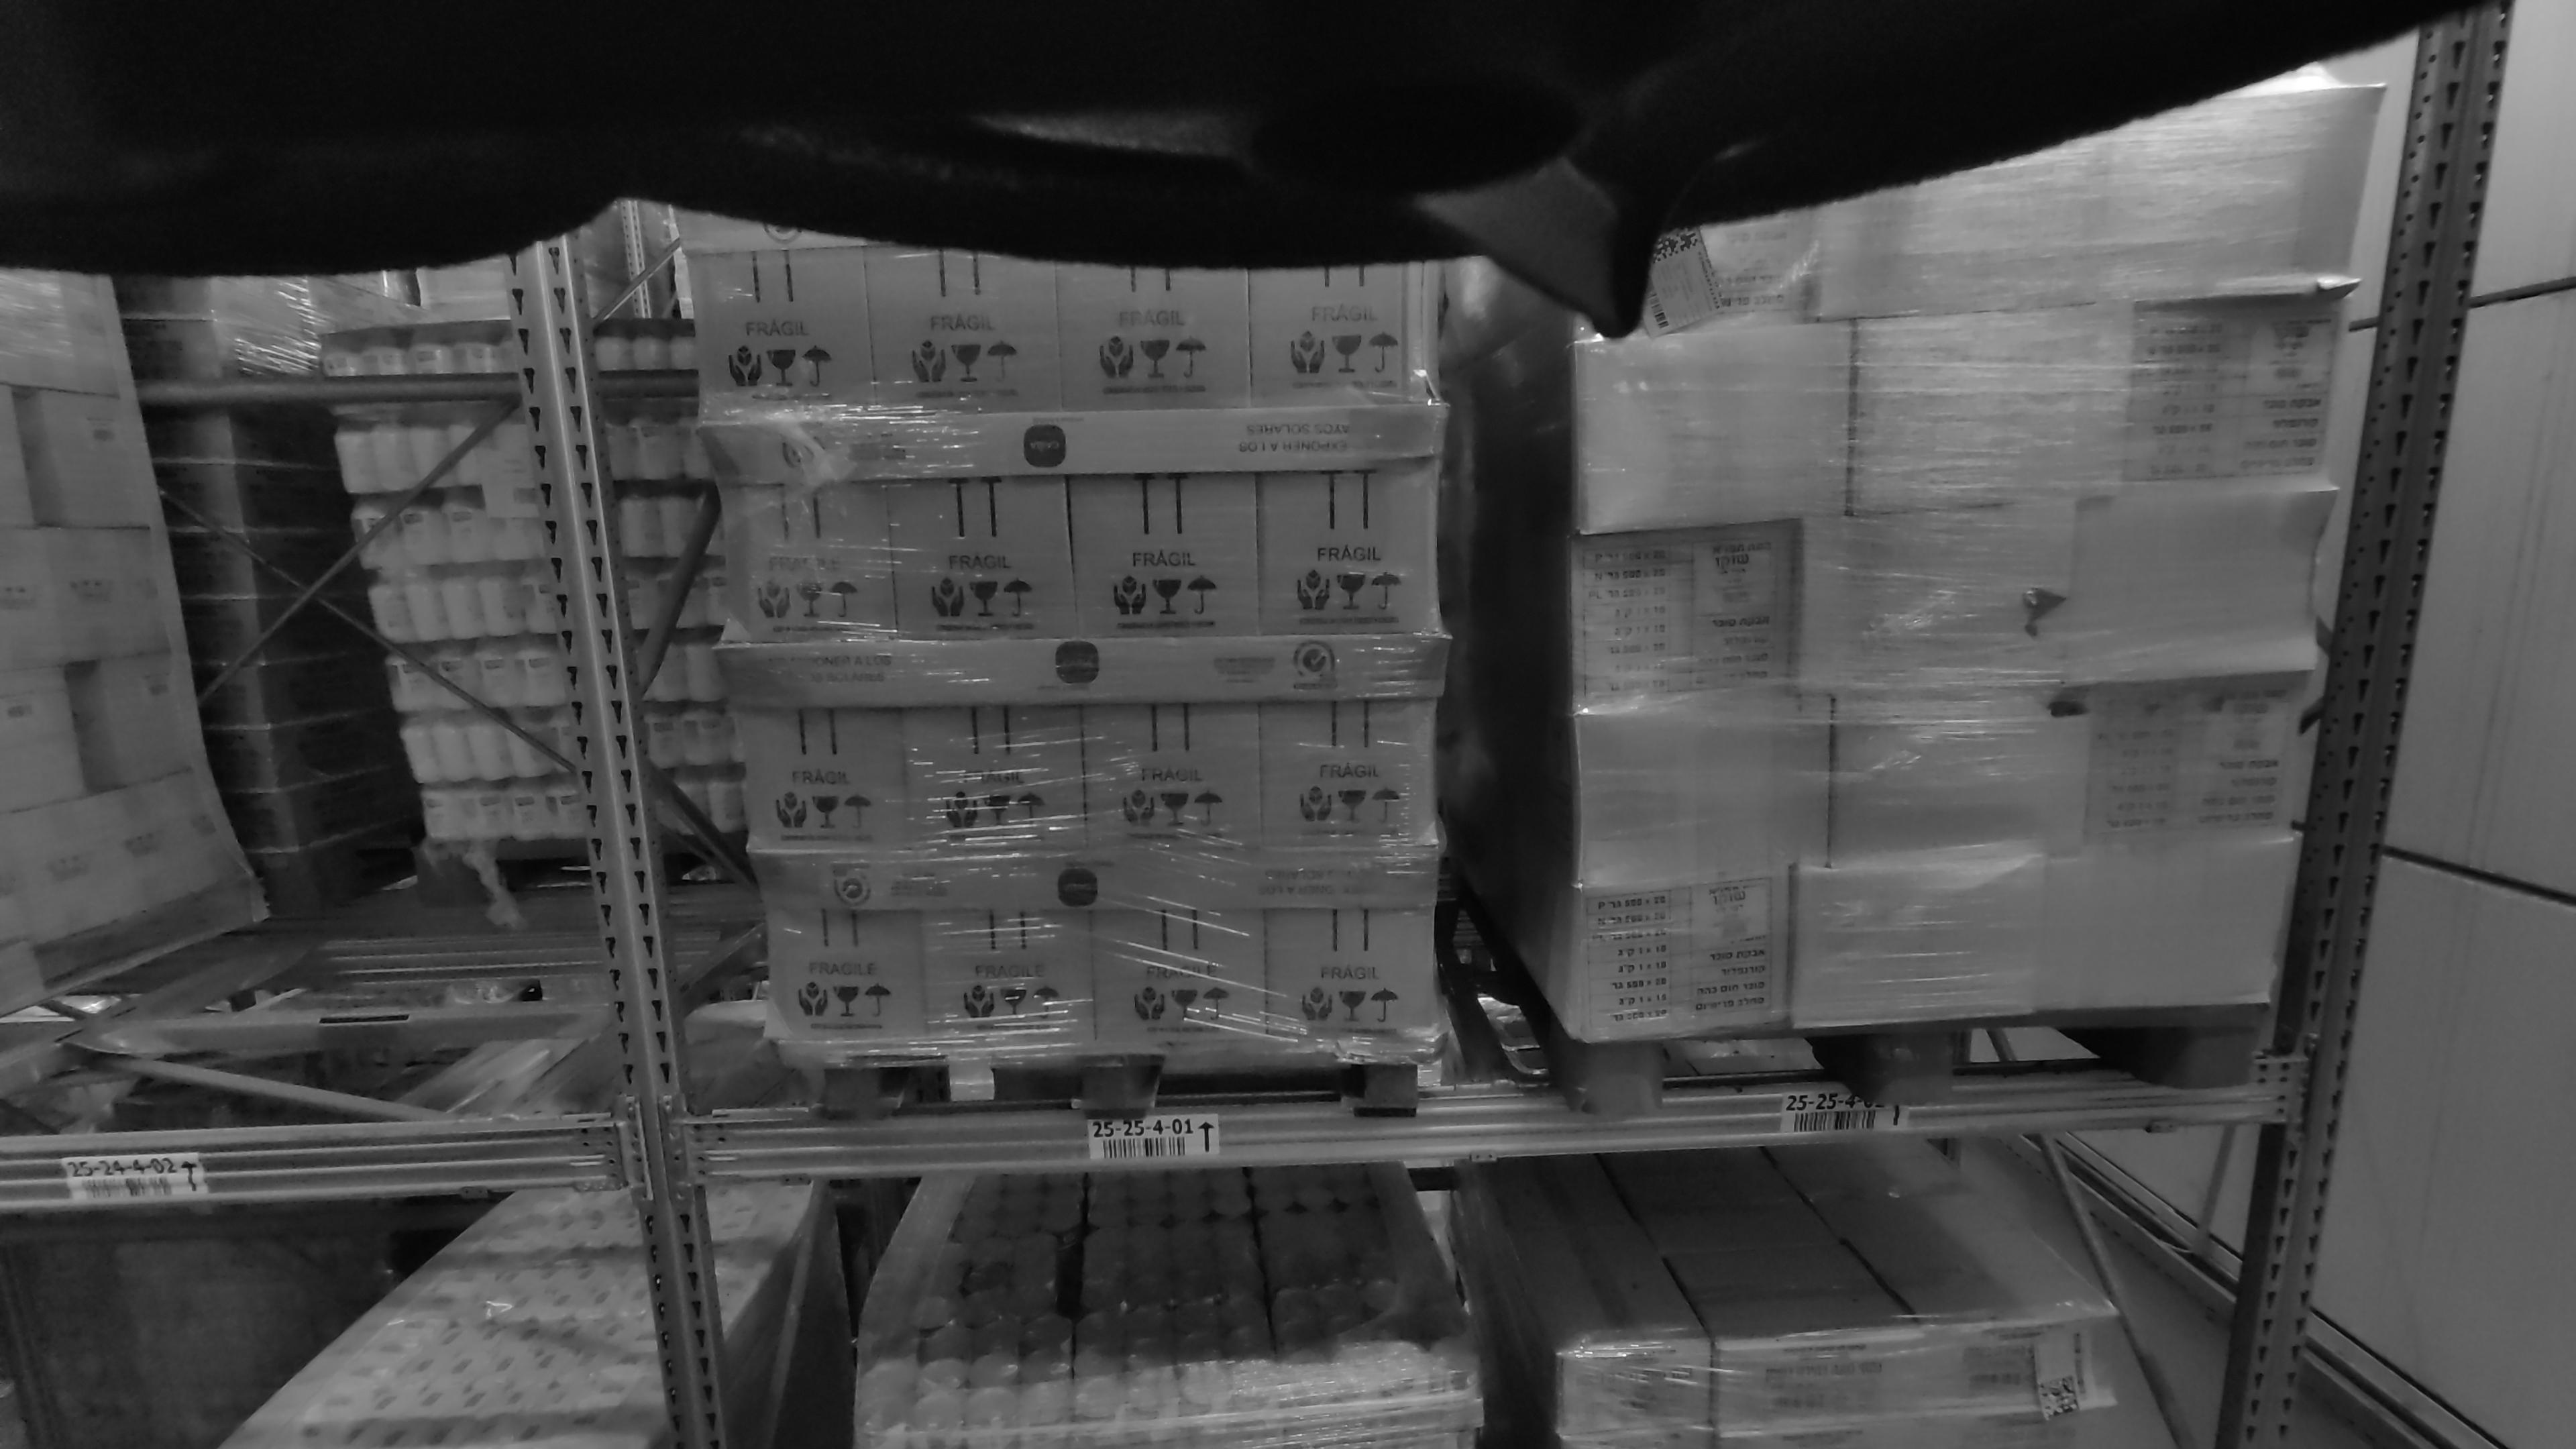empty-shelf: (18, 264, 548, 1100)
